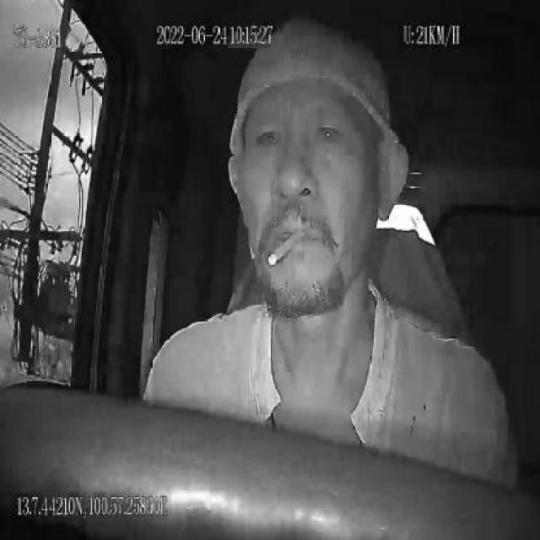smoking: (269, 226, 305, 268)
